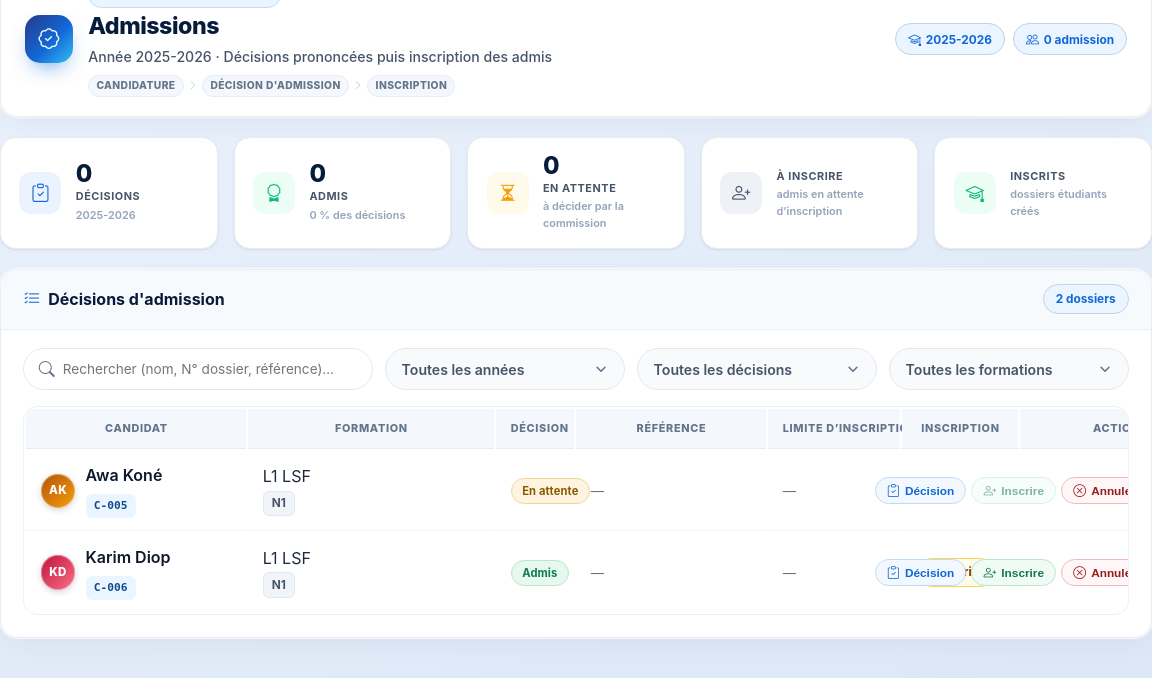
Test: pages/scolarite/Admissions — panneau Décision (écritures) › prononce une décision admise (POST decision, panneau fermé)
Expected: the text "Awa Koné" is shown, x1=86 y1=463 x2=162 y2=488
Click the button "Décision" in the row of "AK" at (921, 491), box x1=875 y1=477 x2=966 y2=504
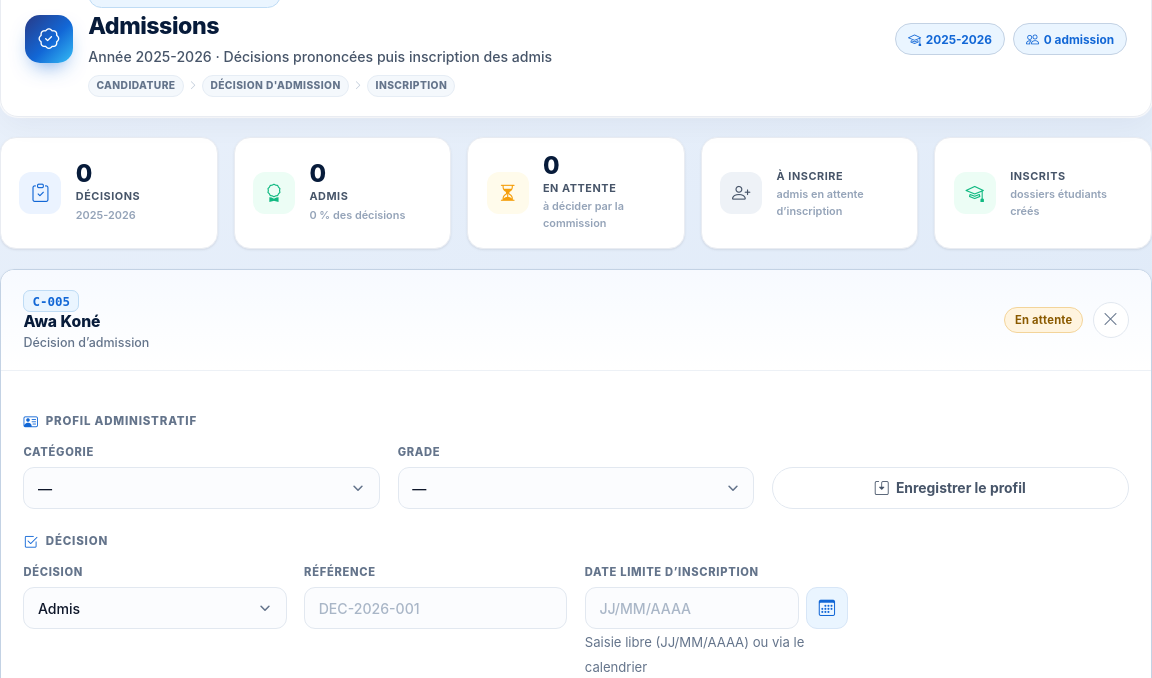
Type "DEC-2026-042" into the field with placeholder "DEC-2026-001" at (436, 608), box x1=304 y1=587 x2=567 y2=629
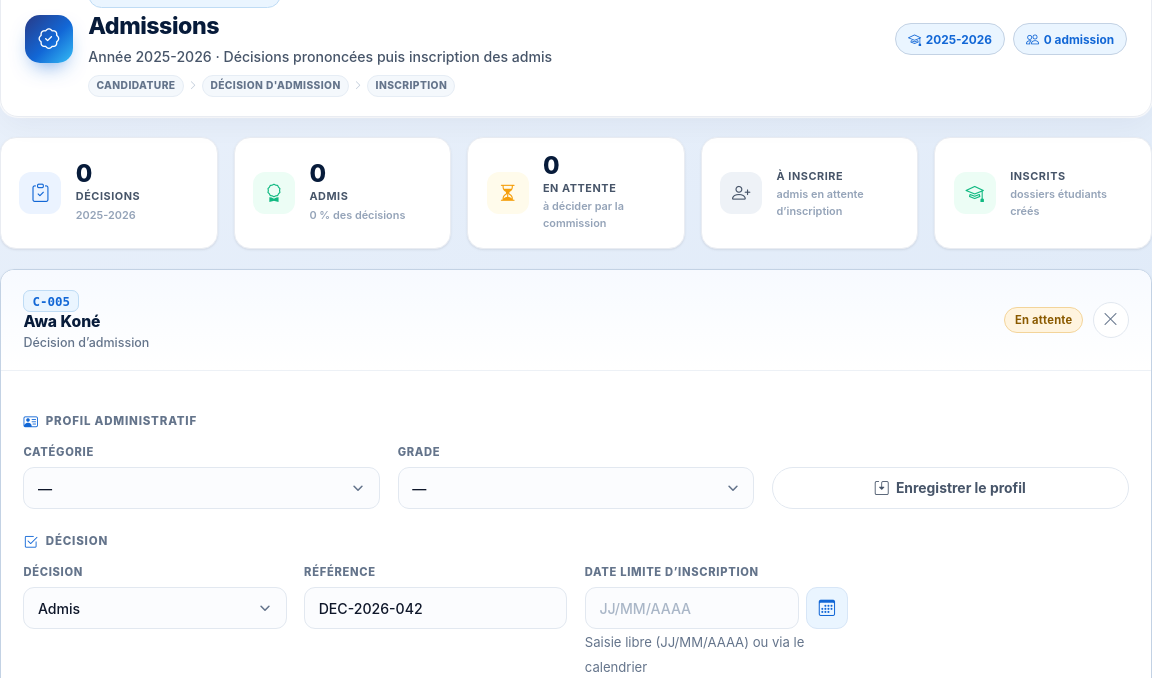
Select "Admis" in the dropdown labelled "Décision" at (155, 608), box x1=23 y1=587 x2=286 y2=629
(page scrolled)
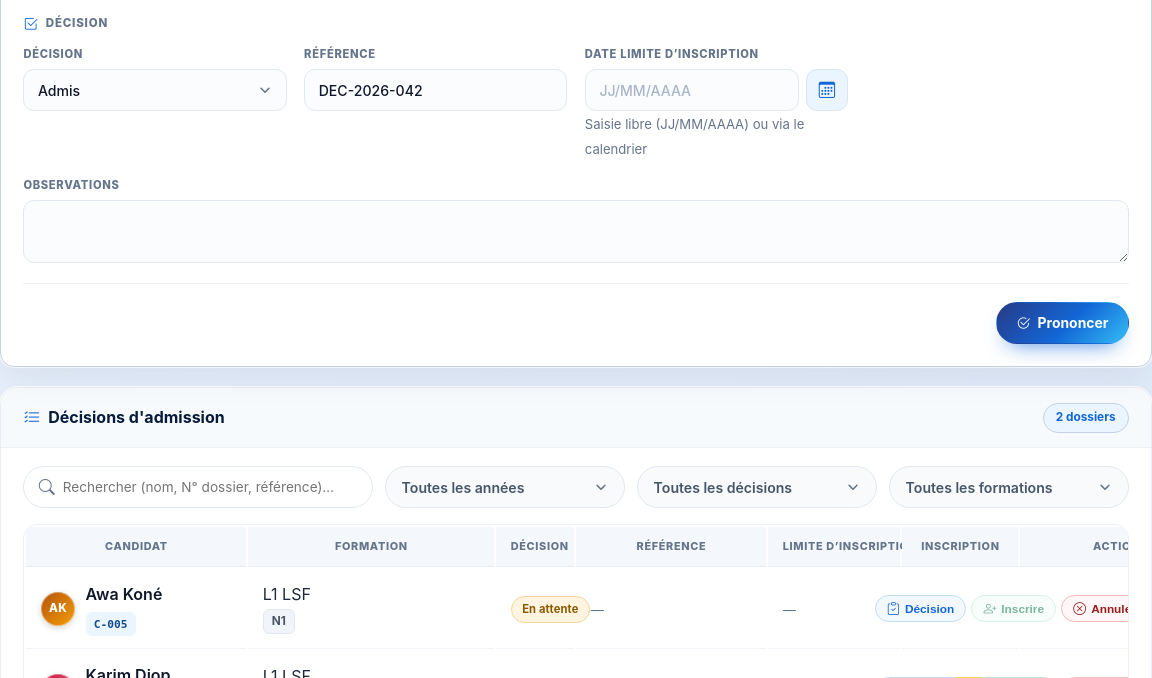
Click the button "Prononcer" at (1062, 323), box x1=996 y1=302 x2=1129 y2=344
(page scrolled)
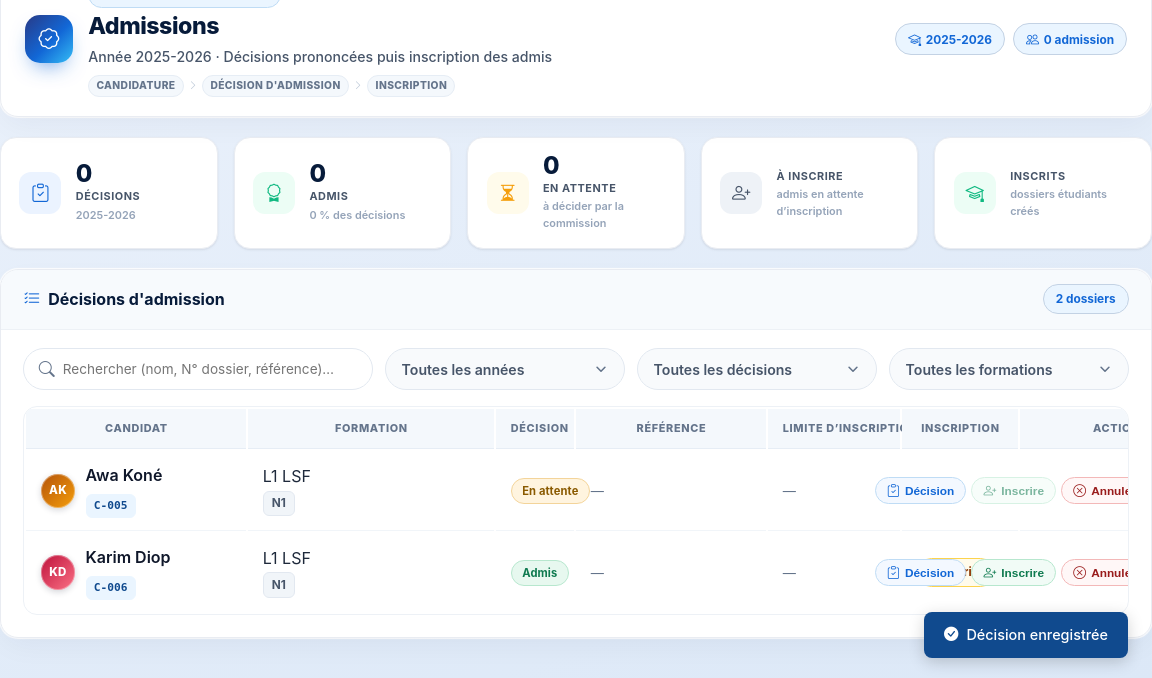
Now the text "Décision enregistrée" is shown, box x1=924 y1=612 x2=1128 y2=658
